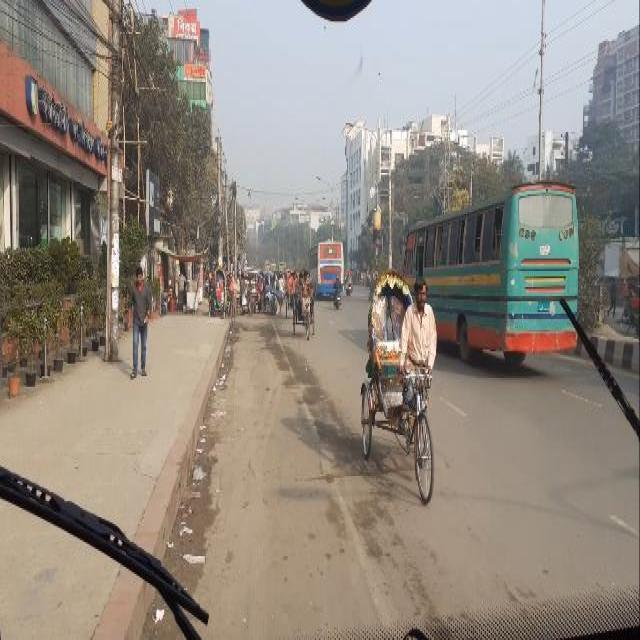10: (343, 267, 352, 295)
13: (359, 263, 437, 502), (208, 264, 238, 326), (290, 268, 314, 340), (618, 277, 638, 338), (284, 266, 302, 317), (262, 270, 276, 288), (358, 268, 366, 286), (369, 266, 378, 282)
14: (330, 270, 342, 309)
19: (255, 262, 263, 267)
8: (398, 174, 578, 363), (277, 258, 285, 271), (264, 258, 270, 268), (269, 260, 275, 269)
Truck: (306, 237, 344, 300)
